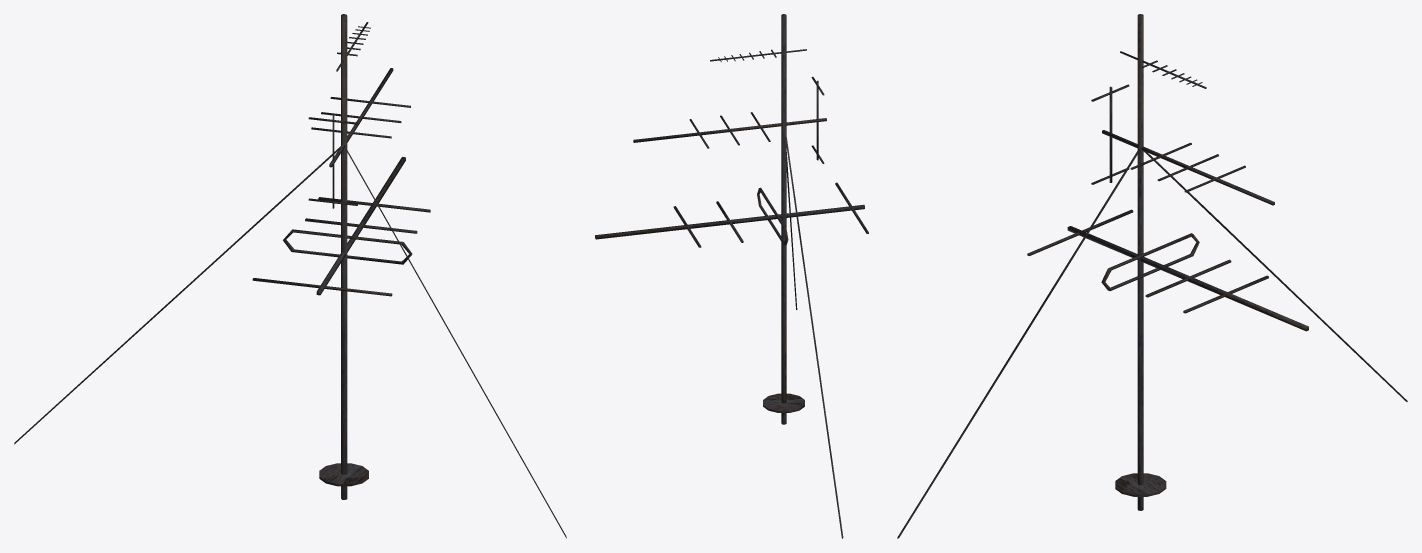
File: Antenna.fbx
3 renders of one model, left to right at view 1: azimuth 30°, elevation 25°; view 2: azimuth 150°, elevation 25°; view 3: azimuth 270°, elevation 25°, orthographic. The views are drawn at different scales.
Visible parts, largest first — view 1: Antenna; view 2: Antenna; view 3: Antenna.
Boxes of the visible parts, bbox=[...] form: Antenna: bbox=[14, 14, 566, 538]; Antenna: bbox=[595, 14, 868, 538]; Antenna: bbox=[897, 14, 1407, 538].
Bounding box in the file's own units: 445 × 600 × 562.
